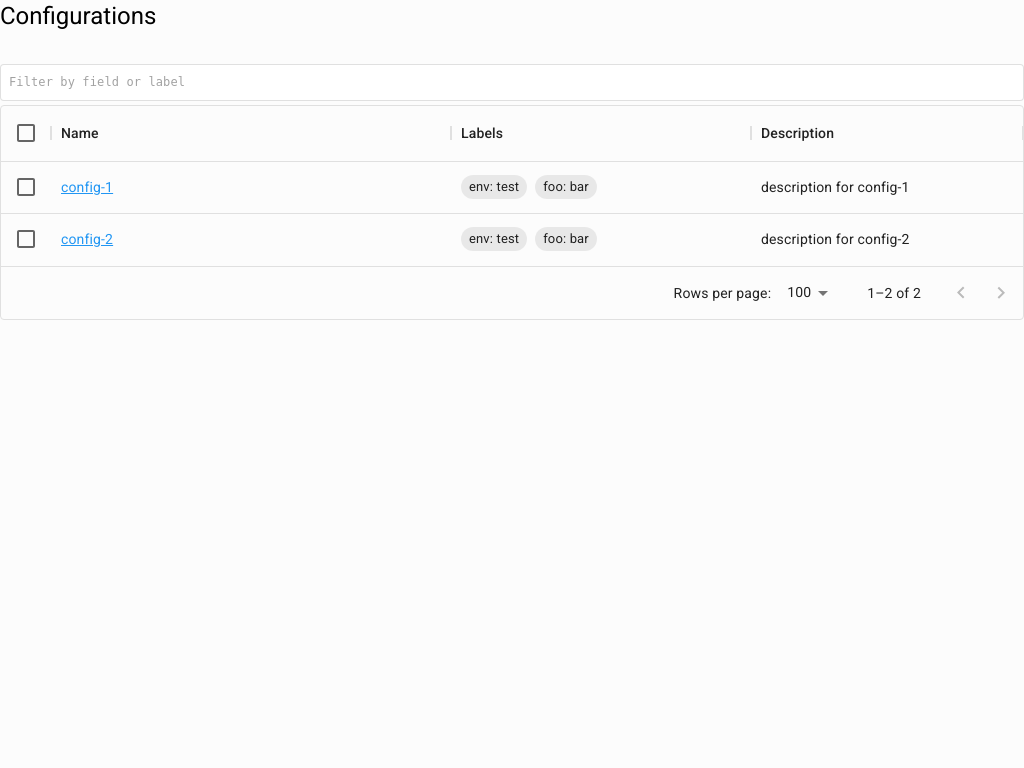
it: ConfigurationsTable › opens the delete dialog after clicking delete
This screenshot has width=1024, height=768.
Expected: the link "config-1" is shown, [61, 177, 113, 197]
Click the checkbox named "Select all rows". click: (26, 133)
box: [14, 121, 38, 145]
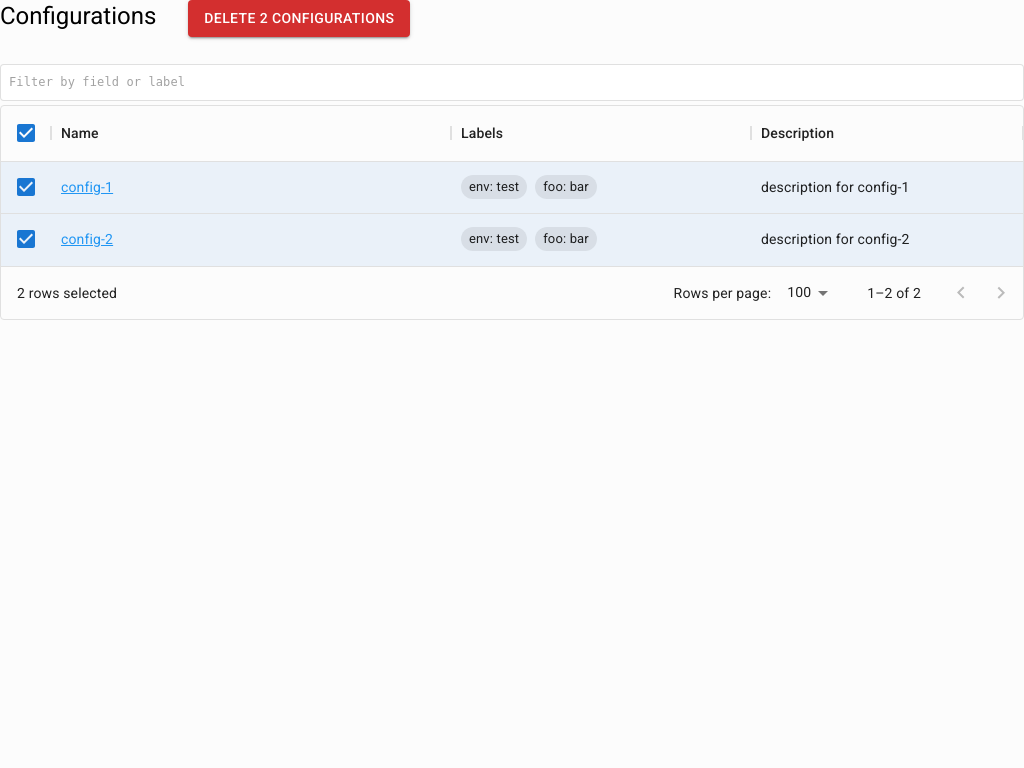
Click the button "Delete 2 Configurations". click: (299, 18)
box: [188, 0, 410, 36]
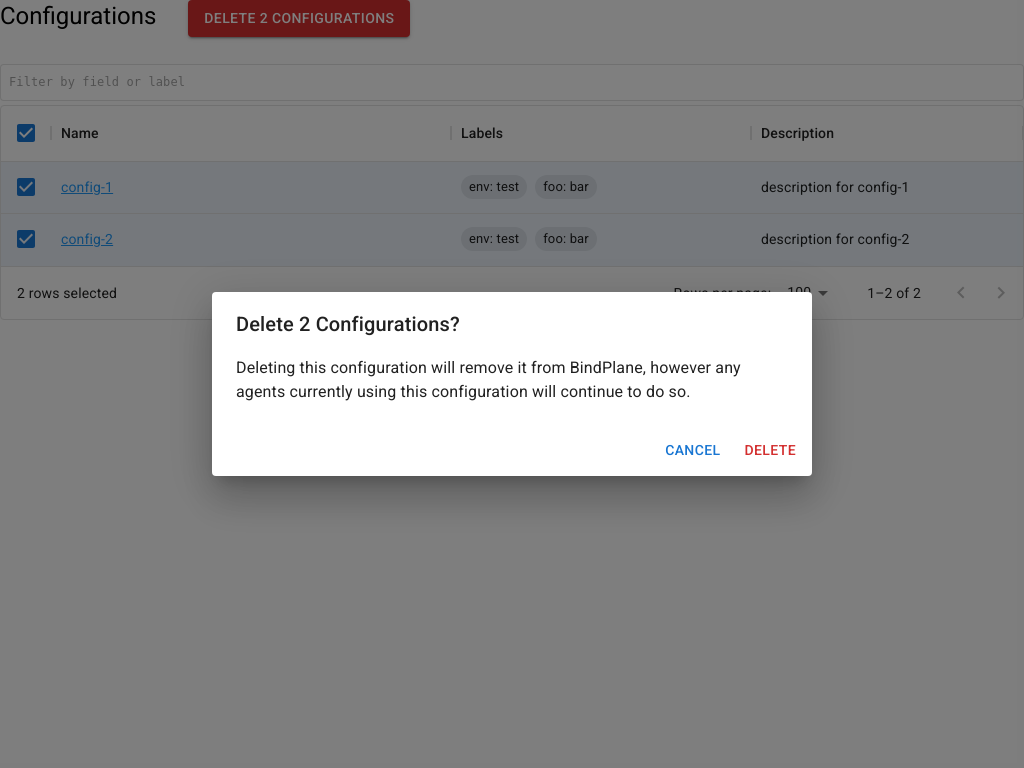
Expected: the element with test id "delete-dialog" is shown
